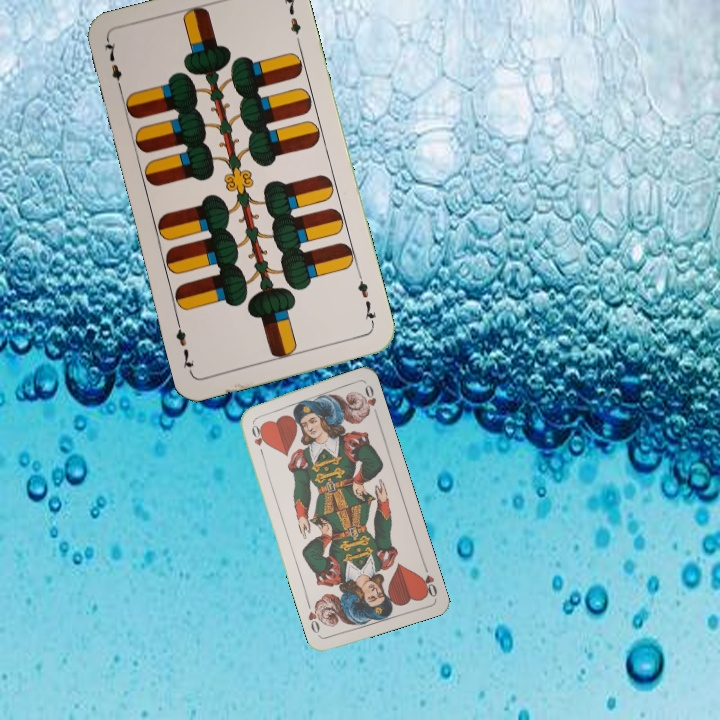E7: (353, 271, 379, 329), (100, 37, 125, 95)
HO: (417, 560, 440, 600), (248, 417, 267, 457)
